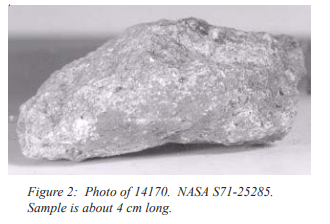Breccia: (8, 5, 304, 172), (81, 44, 274, 135)
